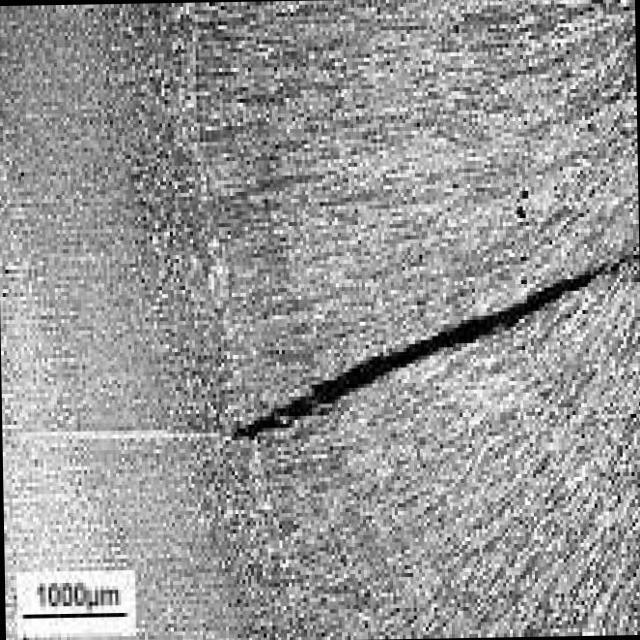defect: (218, 241, 634, 446)
